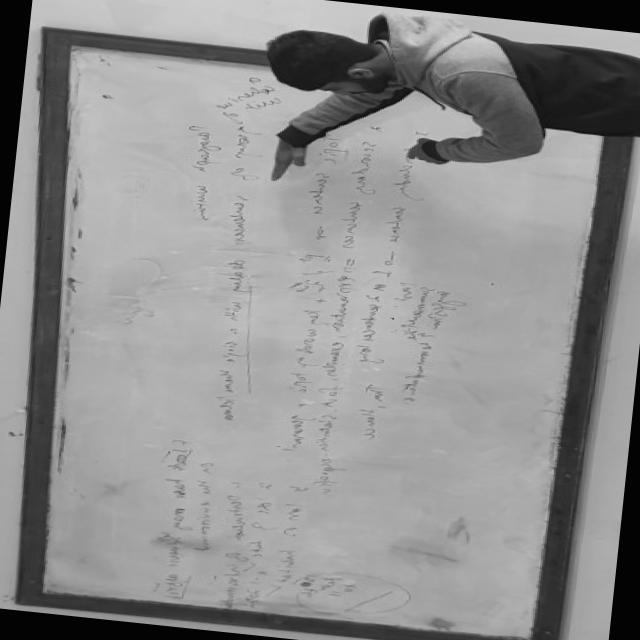Instructor: (238, 2, 640, 144)
White-board: (35, 35, 625, 640)
